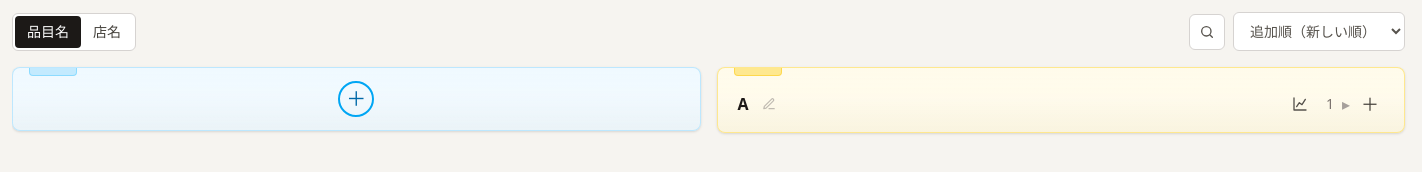
Test: FoldersPage record mutation races › does not overwrite allRecords when listAllRecords resolves after a records revision bump
The image size is (1422, 172).
Click the button named "すべての記録（1）" at (1330, 104), box [1320, 90, 1340, 118]
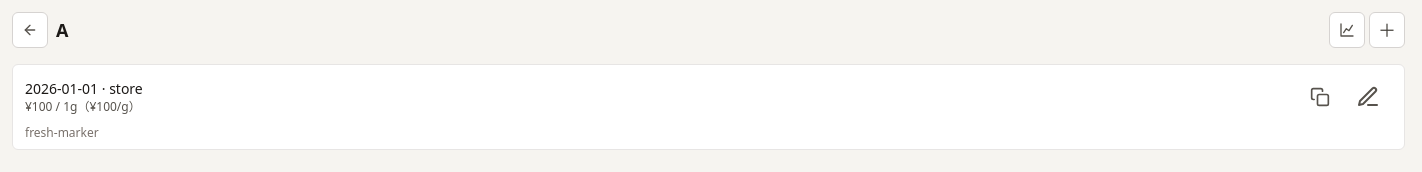
Result: the text "fresh-marker" is shown at [25, 124, 99, 141]
